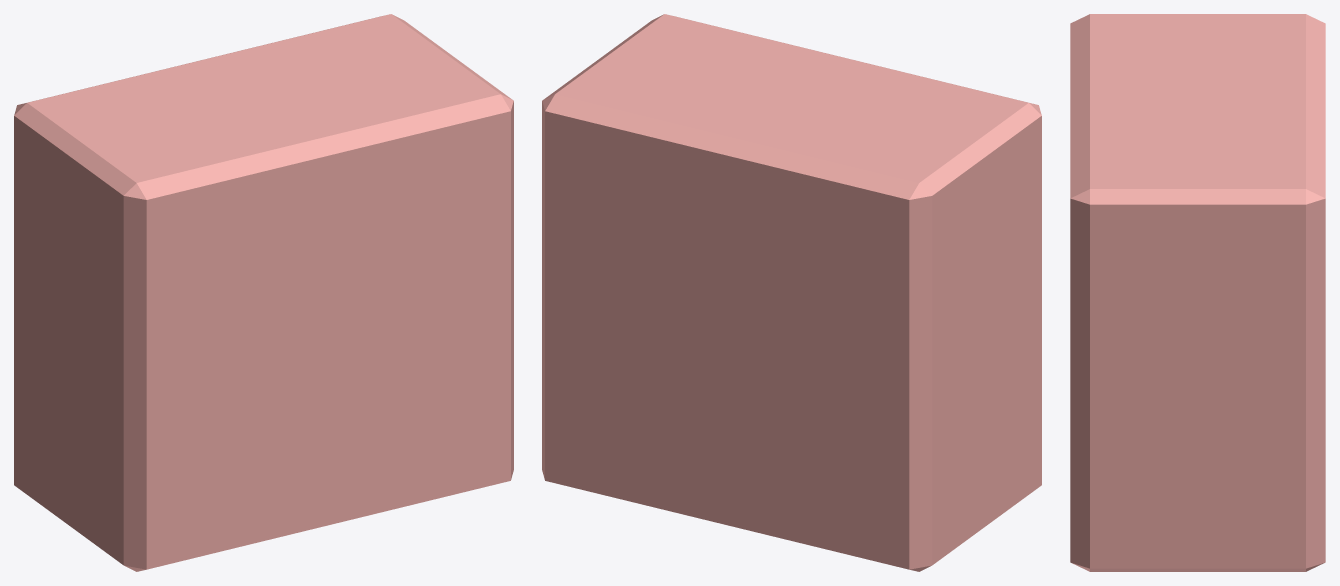
The model's file is BasicShape9.fbx.
3 renders of one model, left to right at view 1: azimuth 30°, elevation 25°; view 2: azimuth 150°, elevation 25°; view 3: azimuth 270°, elevation 25°, orthographic.
Visible parts, largest first — view 1: Piece5; view 2: Piece5; view 3: Piece5.
Part boxes in pixels (x1,y1,x2,y2): Piece5: (14,14,513,571); Piece5: (542,14,1041,571); Piece5: (1070,14,1325,571).
Bounding box in the file's own units: 22.25 × 21.2 × 12.81.
